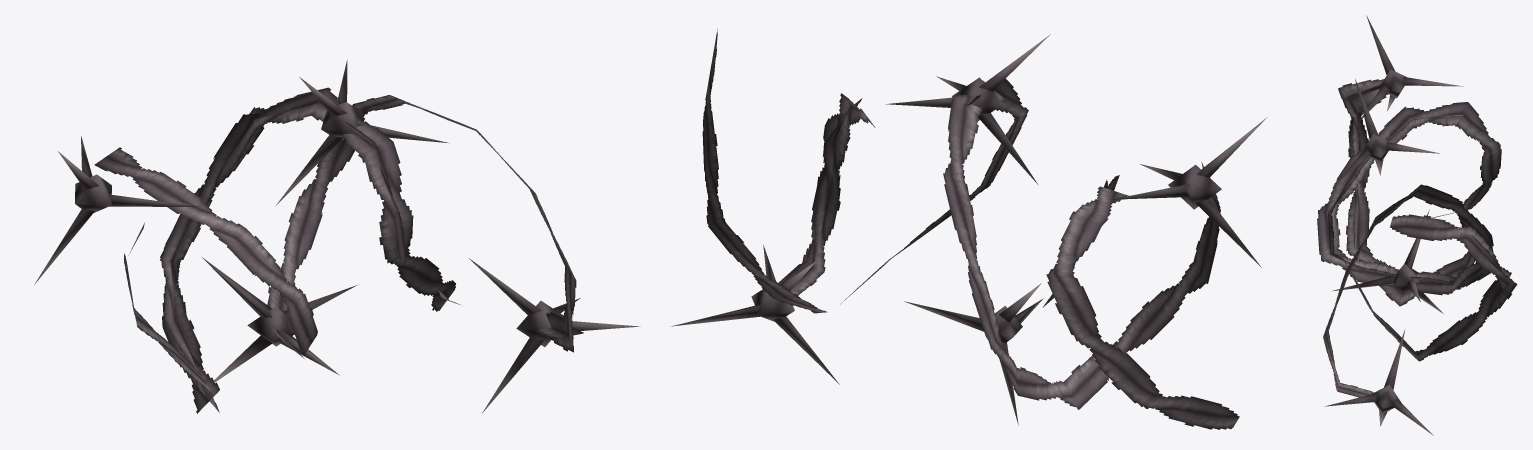
Rendered from barbwire_x2.glb.
3 views of the same model, side by side, from view 1: azimuth 30°, elevation 25°; view 2: azimuth 150°, elevation 25°; view 3: azimuth 270°, elevation 25° (orthographic). The views are drawn at different scales.
Parts seen in each view (by area): view 1: battlefield.barbwire_x2-Mesh[0], battlefield.barbwire_x2-Mesh[1]; view 2: battlefield.barbwire_x2-Mesh[0], battlefield.barbwire_x2-Mesh[1]; view 3: battlefield.barbwire_x2-Mesh[0], battlefield.barbwire_x2-Mesh[1].
Boxes of the visible parts, x1,y1,x2,y2 form: battlefield.barbwire_x2-Mesh[0]: [94, 87, 583, 413]; battlefield.barbwire_x2-Mesh[1]: [34, 60, 640, 413]; battlefield.barbwire_x2-Mesh[0]: [702, 29, 1239, 429]; battlefield.barbwire_x2-Mesh[1]: [670, 34, 1267, 425]; battlefield.barbwire_x2-Mesh[0]: [1317, 79, 1517, 397]; battlefield.barbwire_x2-Mesh[1]: [1324, 15, 1463, 435].
Size of the model in its own units: 2.34 by 1.54 by 1.11.
1 material, 1 textured.
